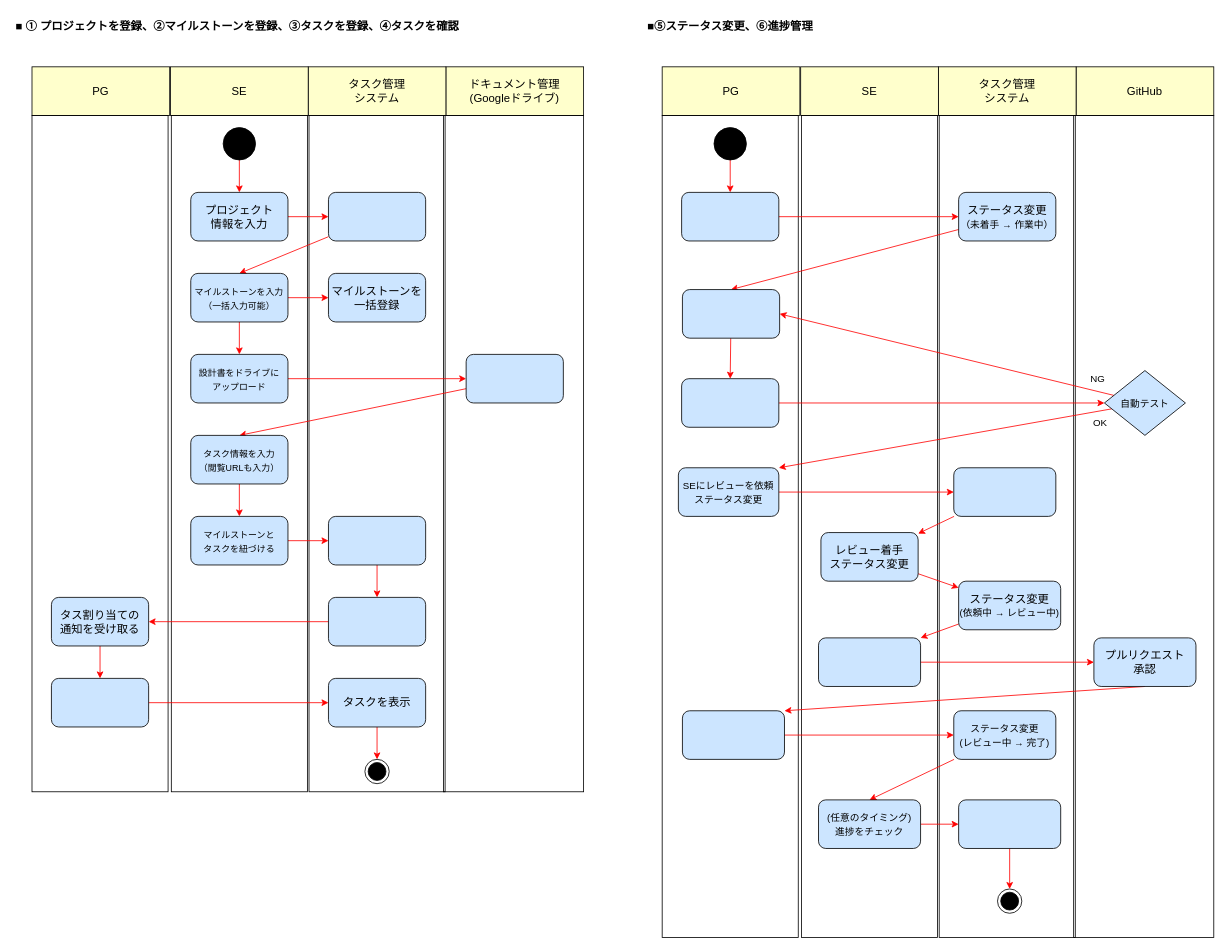
Some shapes in this 1228 by 952 pixel diagram are drawn without their labels. The centre of each missing label's shape, as x and y in pixels:
GitHubにプッシュ (プルリク作成): the point at 730,402
PGにSlack 通知する: the point at 377,621
コーディング: the point at 731,313
ステータス変更 (作業中 → レビュー依頼中): the point at 1004,491
タスクを登録: the point at 377,540
タスク詳細の リンクをクリック: the point at 100,702
プロジェクトを 登録: the point at 377,216
マイルストーン内の タスク完了割合を ％表示: the point at 1009,823
レビュー完了: the point at 869,661
作業を開始する (ステータスを選択): the point at 730,216
設計書を保存して、 閲覧URlを発行: the point at 514,378
通知を受け取る: the point at 733,734
